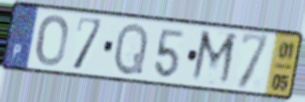5: (154, 28, 188, 79)
7: (238, 30, 273, 93), (72, 15, 104, 72)
M: (188, 28, 240, 89)
O: (34, 13, 70, 68)
Q: (111, 21, 150, 78)
